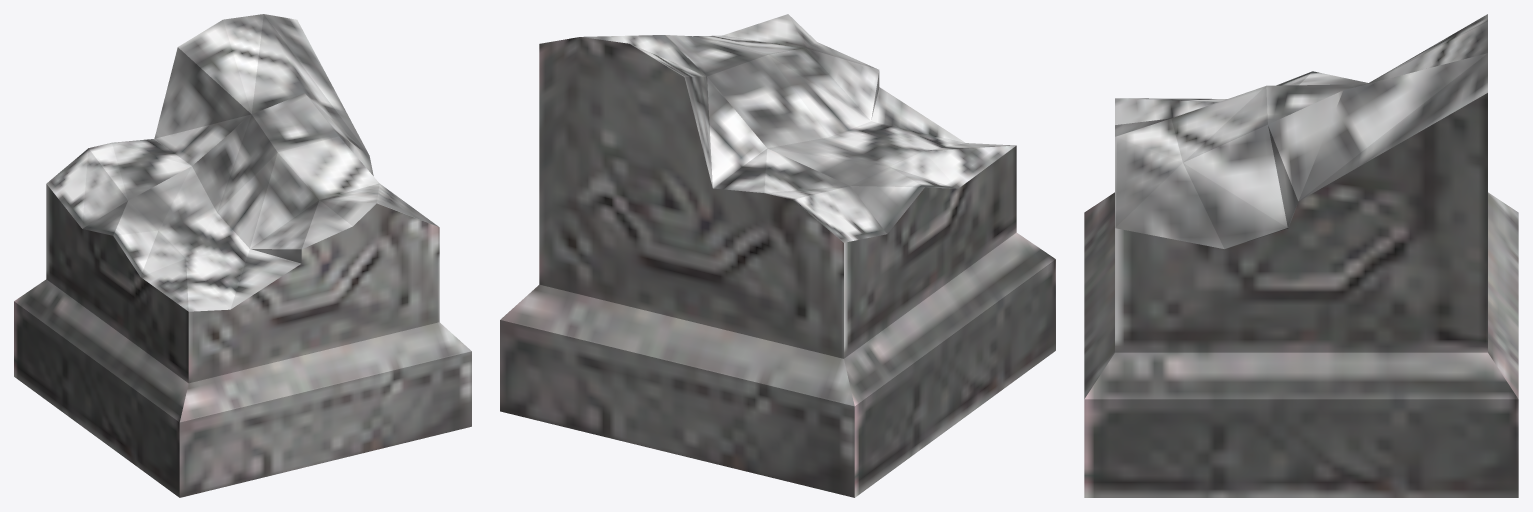
File: QU_gargoyle01_b.FBX
3 views of the same model, side by side, from view 1: azimuth 30°, elevation 25°; view 2: azimuth 150°, elevation 25°; view 3: azimuth 270°, elevation 25° (orthographic). The views are drawn at different scales.
Visible parts, largest first — view 1: QU_gargoyle01_b; view 2: QU_gargoyle01_b; view 3: QU_gargoyle01_b.
Part boxes in pixels (x1,y1,x2,y2): QU_gargoyle01_b: (14, 14, 471, 497); QU_gargoyle01_b: (500, 14, 1055, 497); QU_gargoyle01_b: (1084, 14, 1518, 497).
Size of the model in its own units: 143 by 148 by 140.
